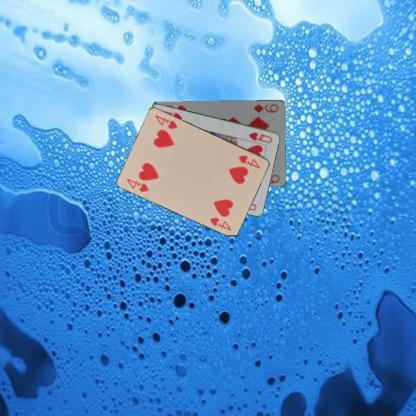4h: (236, 152, 261, 170), (124, 176, 150, 193)
9d: (251, 102, 280, 114)
Qh: (246, 129, 273, 144)
